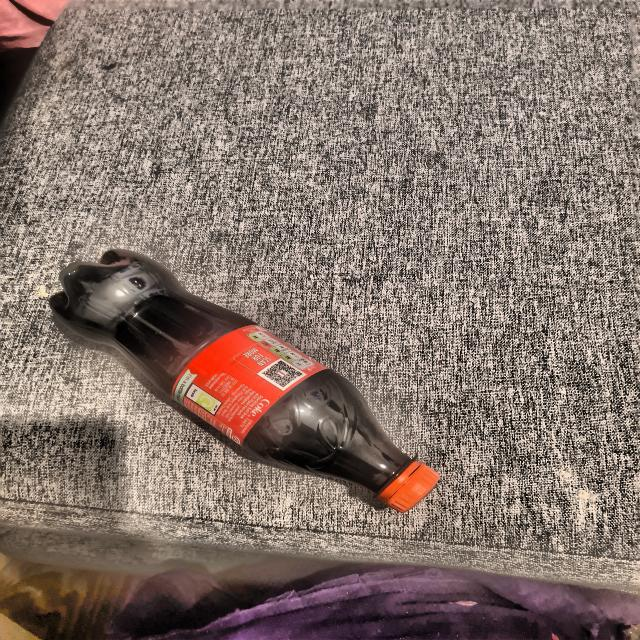coke-bottle: (55, 244, 442, 519)
